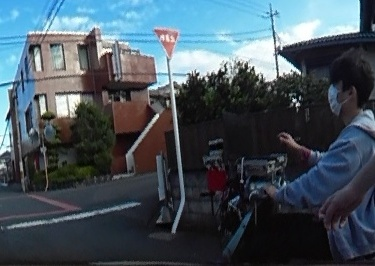person: (267, 52, 375, 266)
